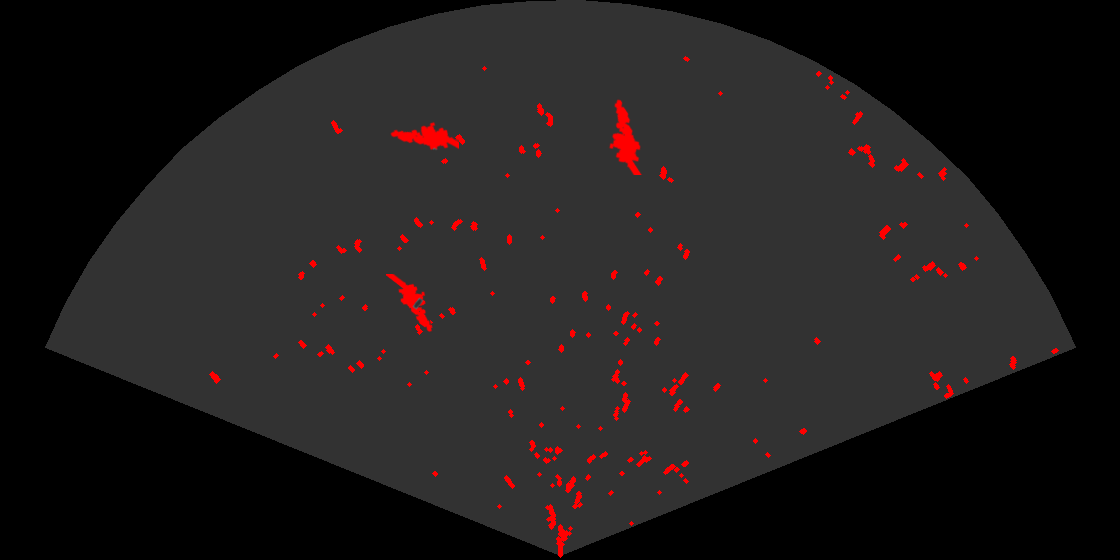frogman: (386, 274, 434, 334), (607, 98, 644, 175), (389, 120, 459, 152)
